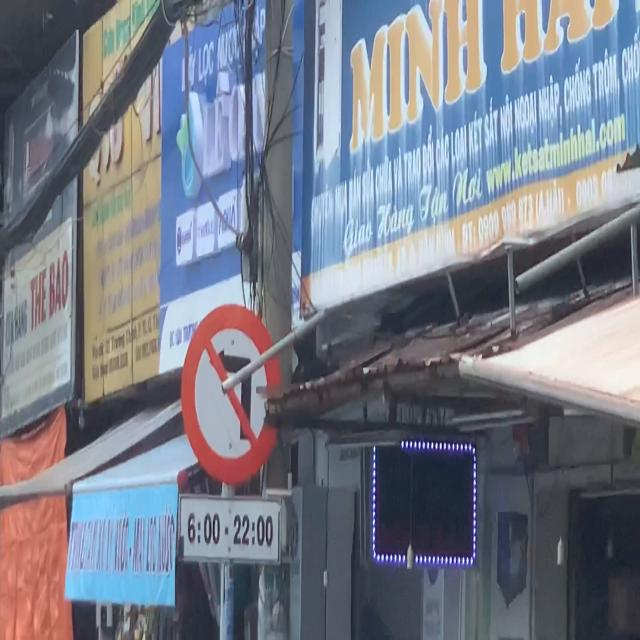Cam re trai: (180, 300, 284, 488)
